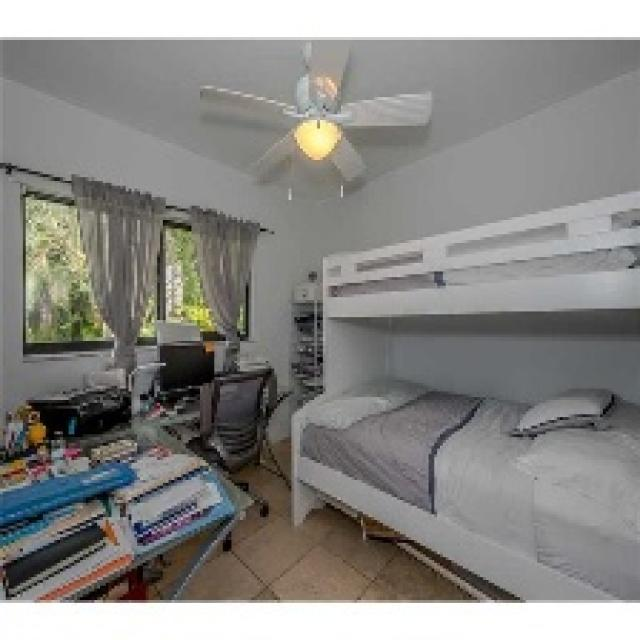Bed: (289, 374, 637, 600)
